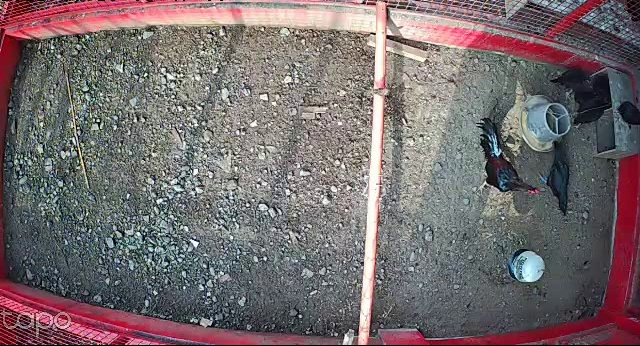Chicken: (537, 138, 569, 215), (549, 64, 597, 104)
Drinker: (506, 248, 548, 285)
Feeder: (519, 93, 571, 153)
Rooster: (472, 118, 542, 198)
